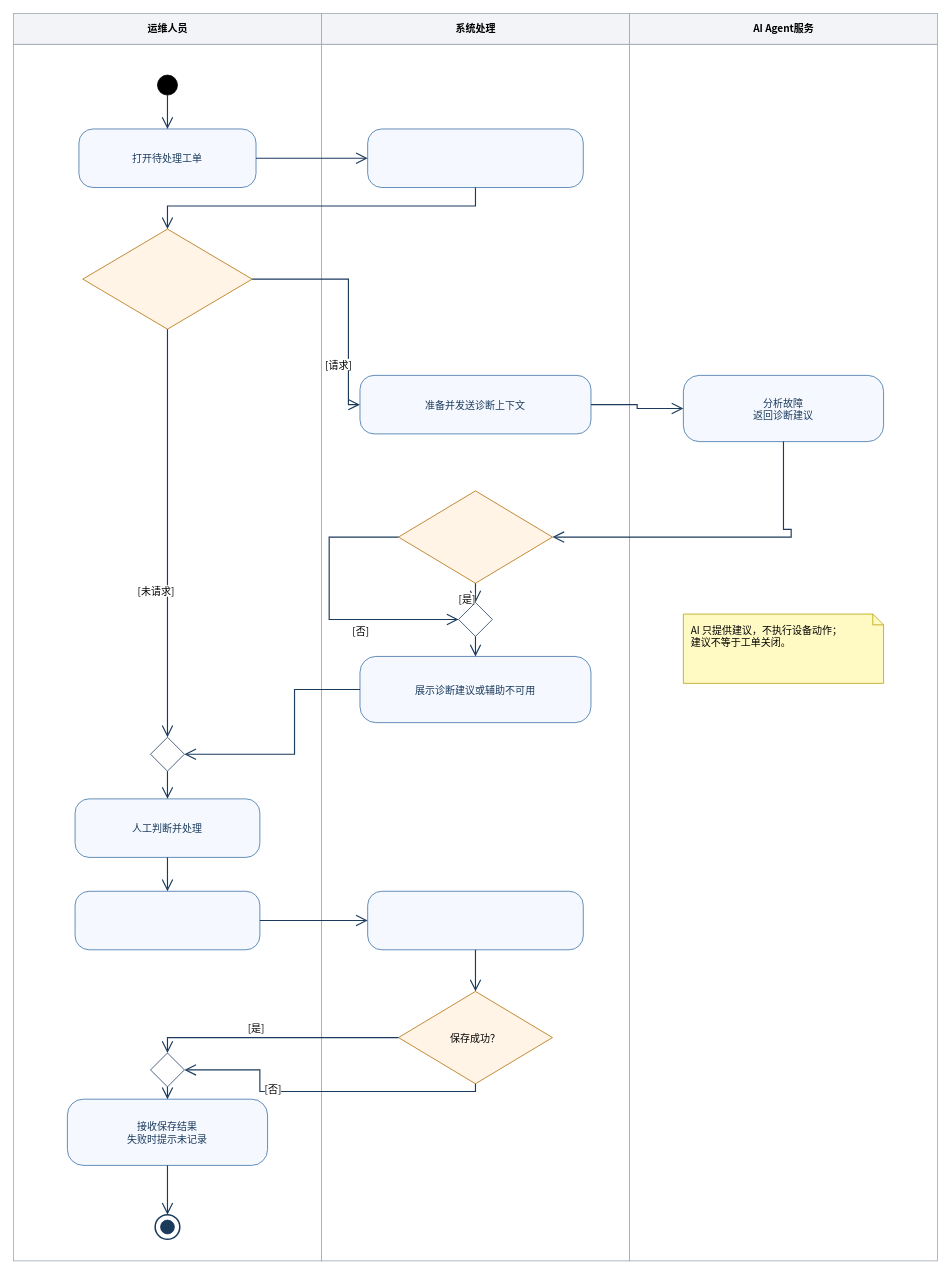
This 951x1274 diagram has some shape labels left out. The centre of each missing label's shape, as x and y in pixels:
"保存处理信息" goes at pixel 475 920.
"取得有效建议？" goes at pixel 475 536.
"展示工单故障上下文" goes at pixel 475 157.
"提交处理信息" goes at pixel 167 920.
"需要 AI 辅助？ EXT2：需要辅助诊断" goes at pixel 167 278.
